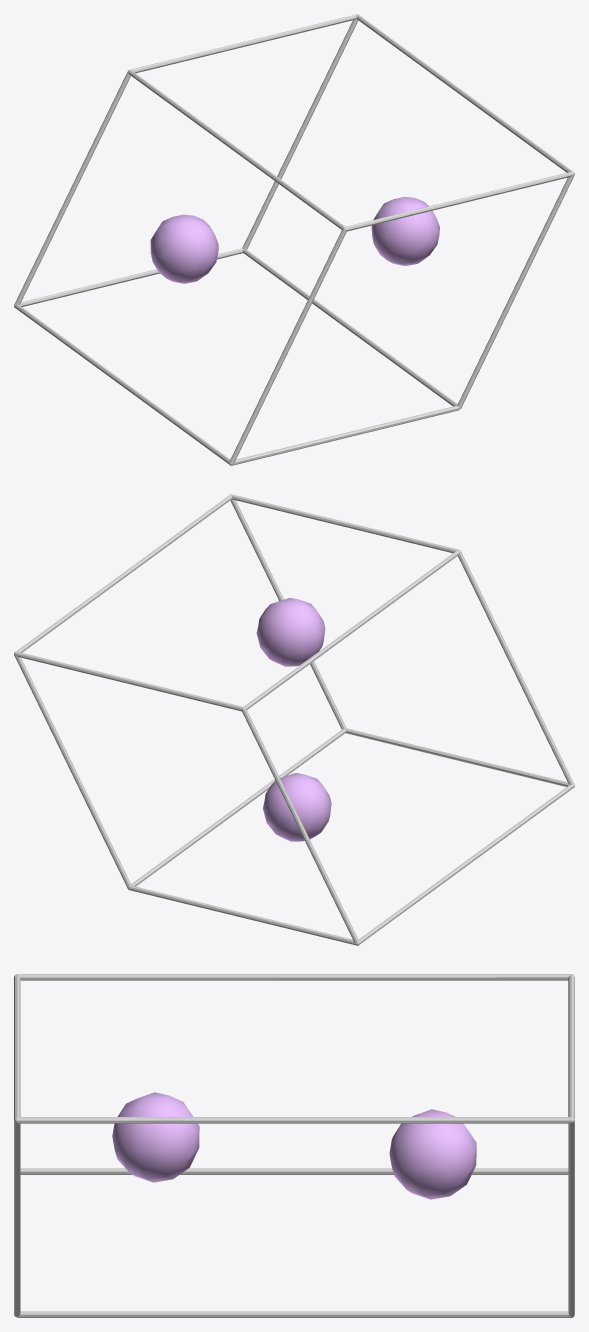
The model's file is LITIO.fbx.
3 views of the same model, one above another, from view 1: azimuth 30°, elevation 25°; view 2: azimuth 150°, elevation 25°; view 3: azimuth 270°, elevation 25° (orthographic). The views are drawn at different scales.
Visible parts, largest first — view 1: limite.015, Li; view 2: limite.015, Li; view 3: limite.015, Li.
Boxes of the visible parts, x1,y1,x2,y2 form: limite.015: [14, 14, 574, 465]; Li: [150, 196, 439, 283]; limite.015: [14, 494, 574, 945]; Li: [256, 598, 331, 841]; limite.015: [14, 974, 574, 1317]; Li: [112, 1092, 476, 1199].
Bounding box in the file's own units: 25.61 × 14.93 × 27.94.
